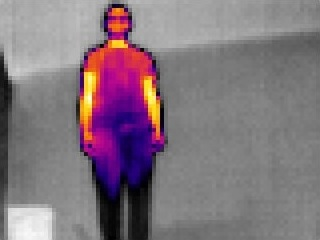human: (78, 4, 165, 240)
